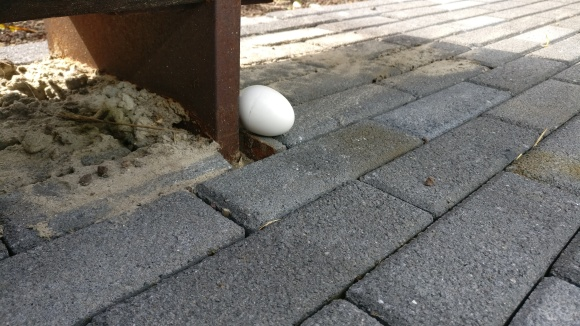egg: (239, 85, 295, 137)
